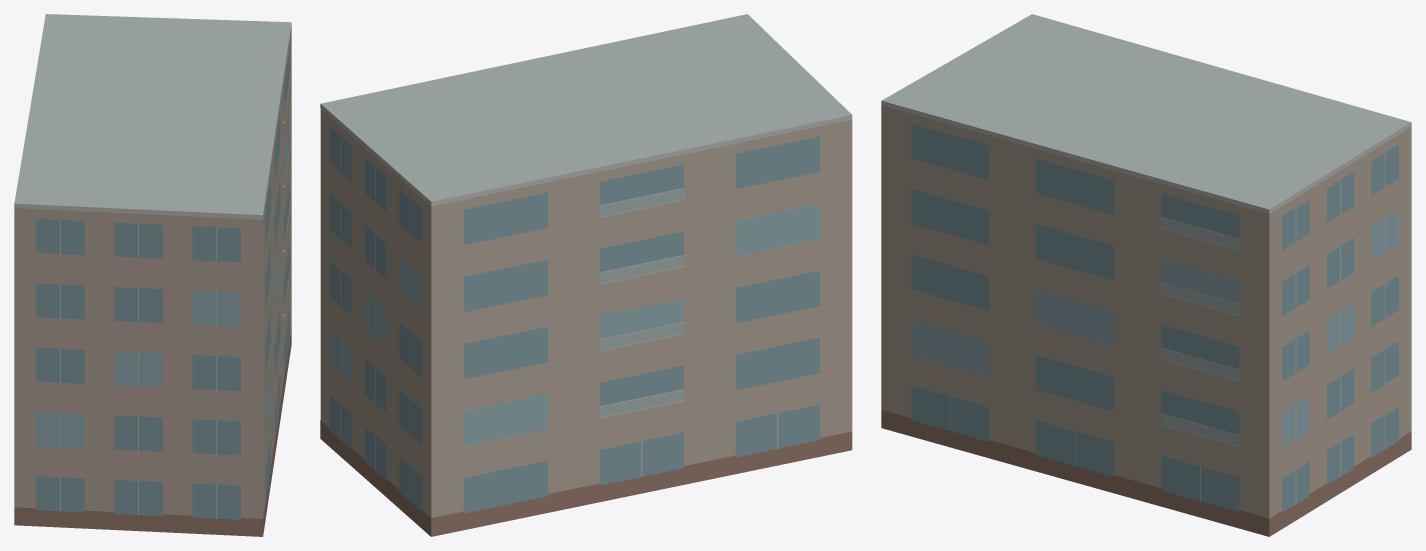
Rendered from survey-upis-32816018.glb.
The picture shows the model from 3 angles, left to right: view 1: azimuth 30°, elevation 25°; view 2: azimuth 150°, elevation 25°; view 3: azimuth 270°, elevation 25°; orthographic projection. The views are drawn at different scales.
Parts seen in each view (by area): view 1: survey-upis-32816018.tmp; view 2: survey-upis-32816018.tmp; view 3: survey-upis-32816018.tmp.
Part boxes in pixels (box(x1,y1,x2,y2)): survey-upis-32816018.tmp: box(14, 14, 291, 536); survey-upis-32816018.tmp: box(320, 14, 852, 536); survey-upis-32816018.tmp: box(881, 14, 1411, 536).
Bounding box in the file's own units: 22.17 × 17.3 × 25.4.
